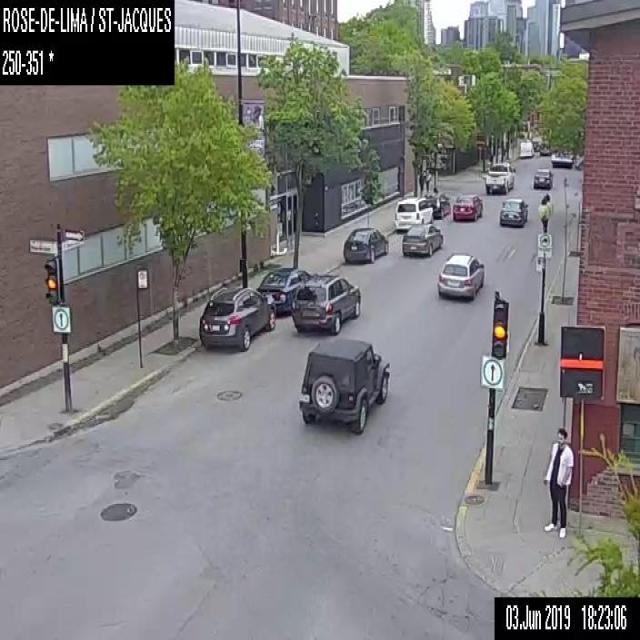pedestrian: (542, 427, 573, 537), (424, 169, 430, 195), (418, 168, 424, 193)
vehicle: (301, 338, 391, 430), (198, 288, 274, 349), (292, 272, 355, 334), (436, 249, 486, 299), (258, 268, 312, 311), (342, 225, 389, 263), (400, 224, 442, 256), (393, 197, 435, 228), (483, 162, 515, 193), (452, 193, 481, 220), (499, 198, 528, 225), (424, 193, 449, 217), (532, 167, 553, 189), (519, 139, 536, 157)
